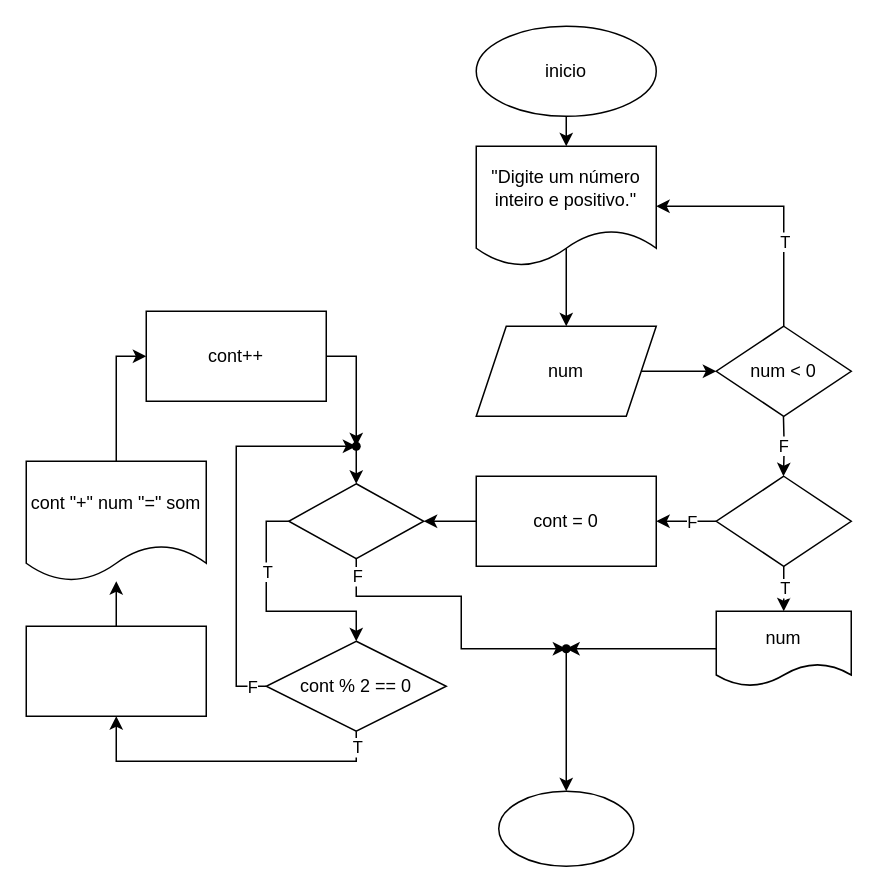
The diagram is 878 pixels wide and 893 high, and some of its shapes have lost their labels. Here are the shapes that lost their labels. From the top down, the centre of each, then its label:
At point 355,520: "cont < num".
At point 783,520: "num === 0".
At point 115,670: "som = cont + num".
At point 565,828: "Fim".
